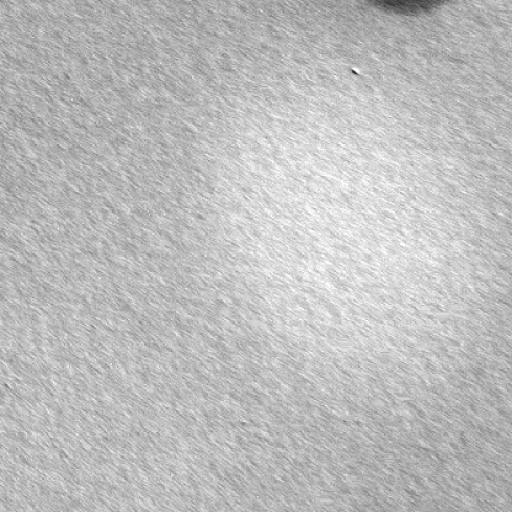Nanoparticles: (367, 0, 451, 16)
